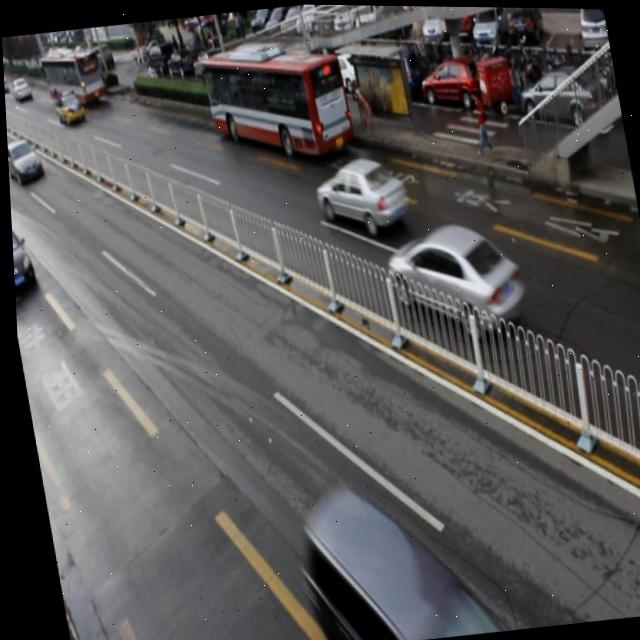car: (378, 212, 528, 347), (307, 151, 411, 239), (9, 218, 35, 298)
truck: (284, 472, 516, 640)
van: (199, 41, 355, 165)
